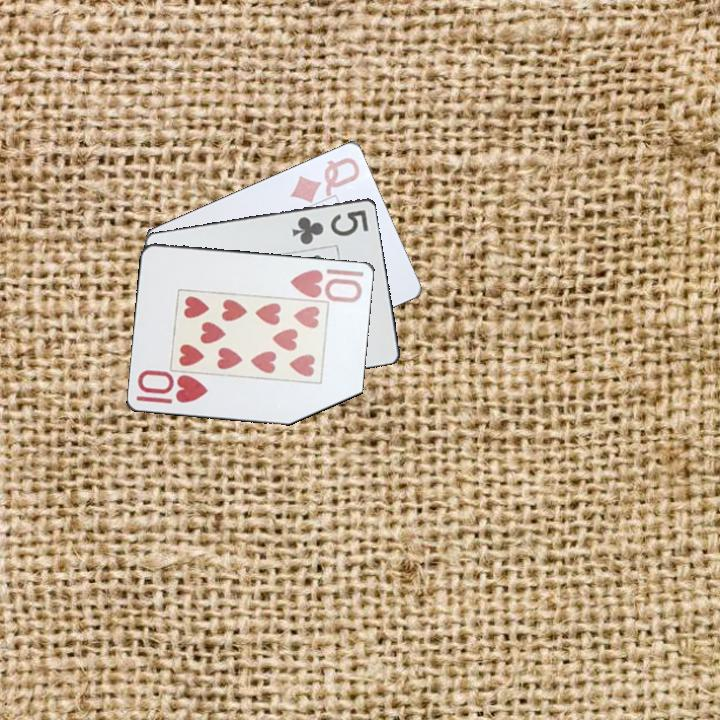5c: (289, 206, 372, 247)
Qd: (286, 153, 363, 205)
Th: (287, 265, 365, 304), (133, 368, 211, 407)
